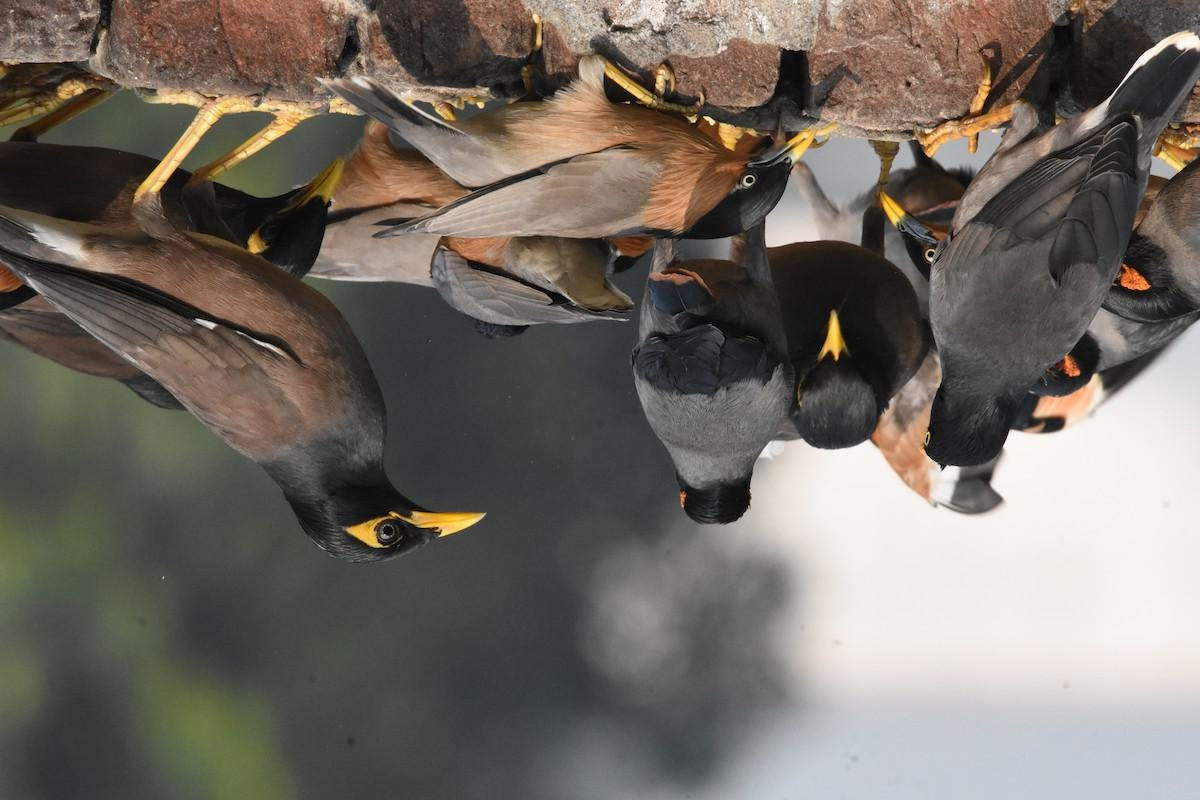myna: (1, 197, 496, 576), (426, 71, 820, 251)
